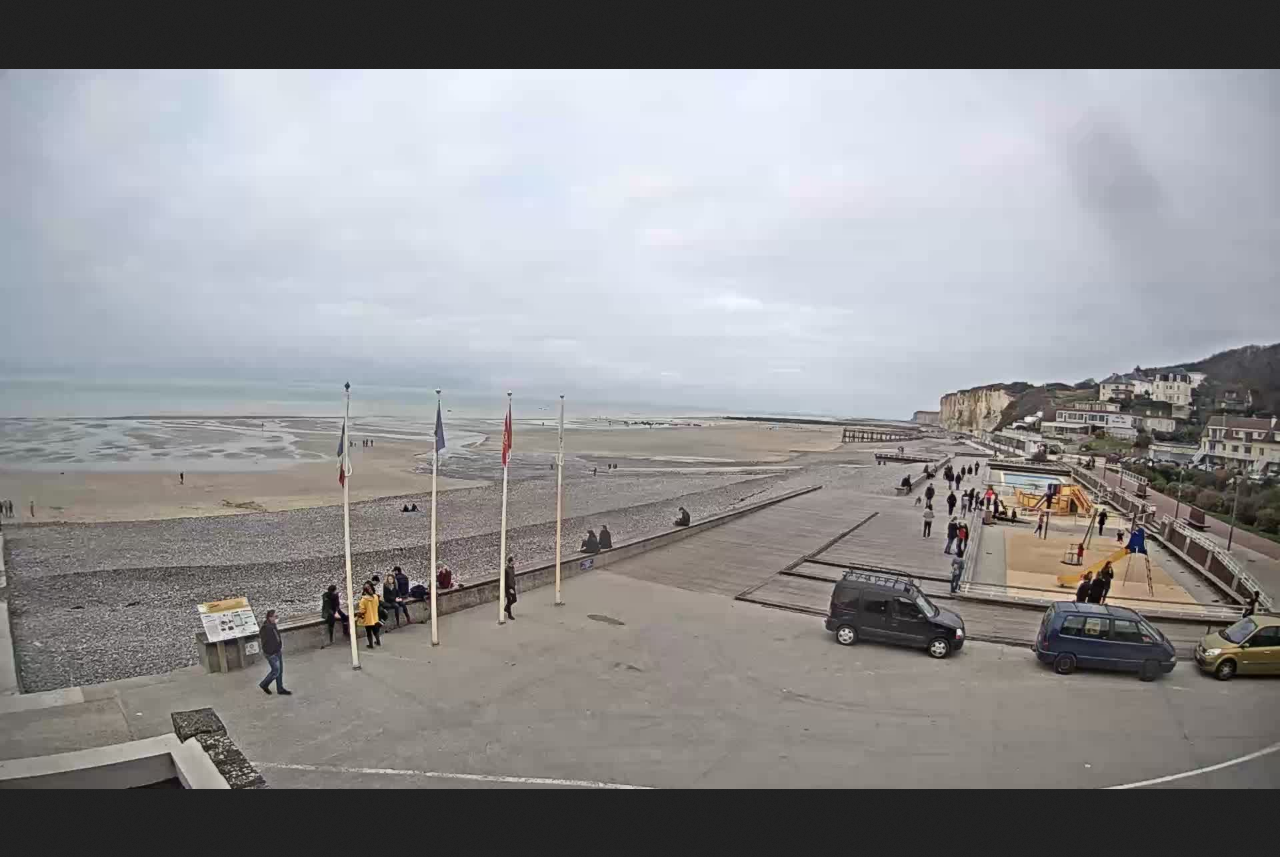no: (328, 405, 357, 497), (427, 394, 451, 467), (498, 395, 519, 471), (551, 397, 569, 475)
